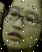without_mask: (1, 2, 42, 52)
